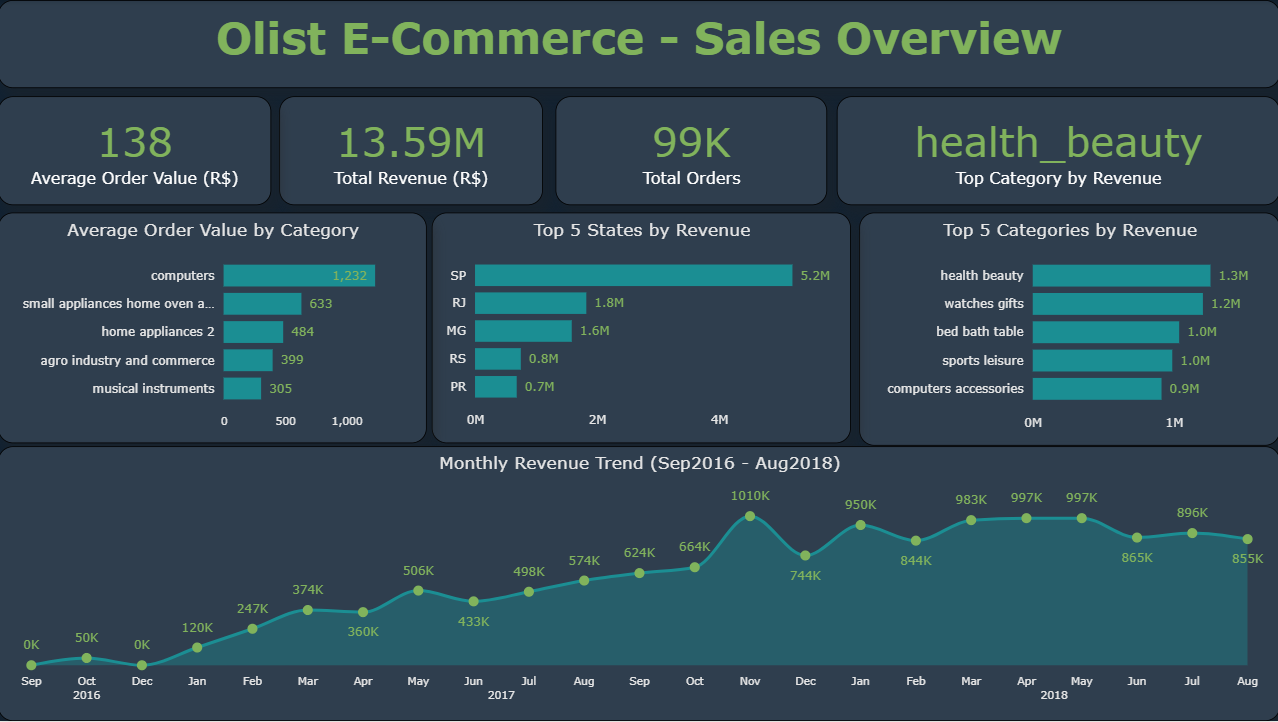

The page's visual inventory and layout, read from the dashboard file:
{"tool":"powerbi","page":{"name":"Sales Performance","canvas":[1280,720],"ordinal":0},"visuals":[{"type":"textbox","box":[0,0,1280,88.1],"z":0},{"type":"card","fields":{"Values":["fact_order_items.Total Revenue"]},"box":[281.1,96.5,263,108.6],"z":1000},{"type":"card","fields":{"Values":["fact_order_items.Total Orders"]},"box":[556.2,96.5,271.4,108.6],"z":2000},{"type":"card","fields":{"Values":["fact_order_items.Average Order Value"]},"box":[0,96.5,272.7,108.6],"z":3000},{"type":"card","fields":{"Values":["fact_order_items.Top Category by Revenue"]},"box":[837.3,96.5,442.8,108.6],"z":4000},{"type":"clusteredBarChart","title":"Top 5 Categories by Revenue","fields":{"Y":["fact_order_items.Total Revenue"],"Category":["dim_products.Category Display Name"]},"box":[860.2,212.3,419.8,232.8],"z":5000},{"type":"clusteredBarChart","title":"Top 5 States by Revenue","fields":{"Category":["dim_customers.customer_state"],"Y":["fact_order_items.Total Revenue"]},"box":[433.1,212.3,418.6,230.4],"z":6000},{"type":"clusteredBarChart","title":"Average Order Value by Category","fields":{"Y":["fact_order_items.Average Order Value"],"Category":["dim_products.Category Display Name"]},"box":[0,212.3,428.3,230.4],"z":7000},{"type":"areaChart","title":"Monthly Revenue Trend (Sep2016 - Aug2018)","fields":{"Y":["fact_order_items.Total Revenue"],"Category":["dim_date.year","dim_date.Short_month"]},"box":[0,446,1280.3,274.4],"z":8000}]}

Visuals, with their boxes in screenshot pixels (x1, y1, x2, y2), scaled from the page's 1280x720 canvas onto the 1278x722 screenshot:
textbox: box(0, 0, 1277, 88)
card - fact_order_items.Total Revenue: box(281, 97, 543, 206)
card - fact_order_items.Total Orders: box(555, 97, 826, 206)
card - fact_order_items.Average Order Value: box(0, 97, 272, 206)
card - fact_order_items.Top Category by Revenue: box(836, 97, 1277, 206)
"Top 5 Categories by Revenue" clusteredBarChart: box(859, 213, 1277, 446)
"Top 5 States by Revenue" clusteredBarChart: box(432, 213, 850, 444)
"Average Order Value by Category" clusteredBarChart: box(0, 213, 428, 444)
"Monthly Revenue Trend (Sep2016 - Aug2018)" areaChart: box(0, 447, 1277, 721)
